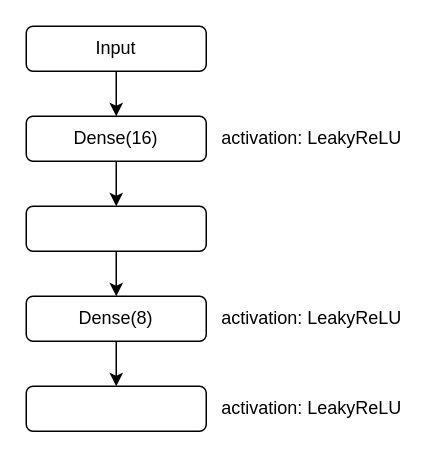
This 443x458 diagram has some shape labels left out. The shapes that lost their labels are listed below. From the top down, each one's centre as x and y in pixels, then its label:
the point at 115,228: Dropout(0.1)
the point at 115,408: Dense(4)
